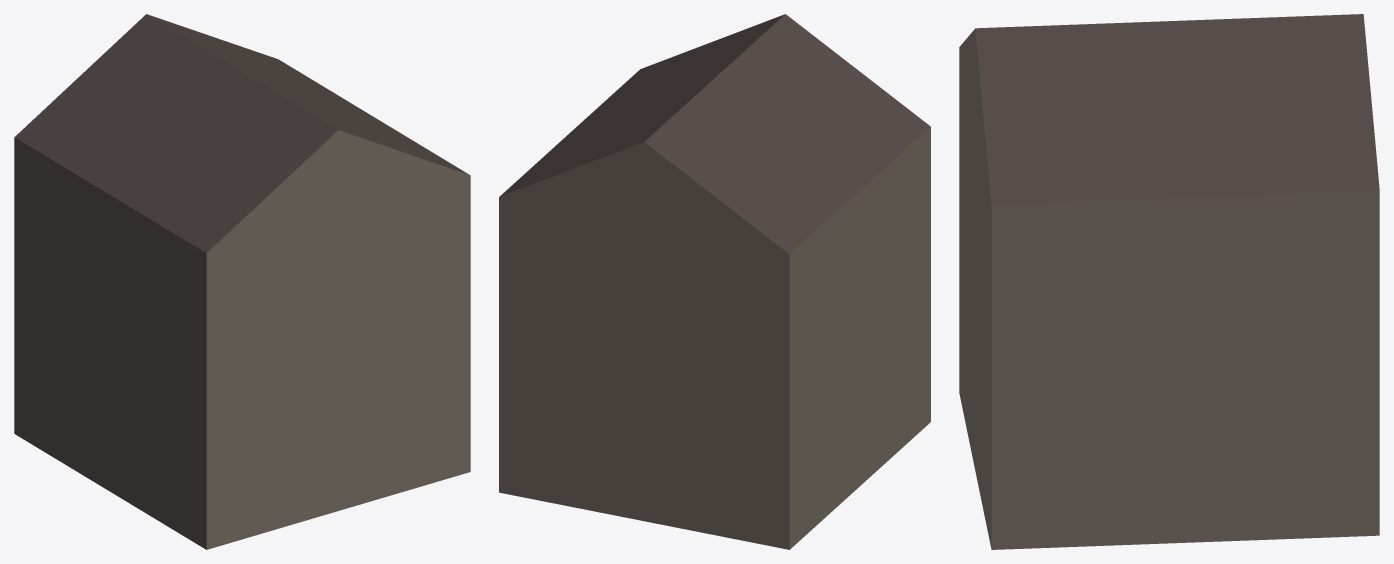
3 views of the same model, side by side, from view 1: azimuth 30°, elevation 25°; view 2: azimuth 150°, elevation 25°; view 3: azimuth 270°, elevation 25° (orthographic). The views are drawn at different scales.
Visible parts, largest first — view 1: HP-w1424106454; view 2: HP-w1424106454; view 3: HP-w1424106454.
Part boxes in pixels (<box>): HP-w1424106454: <box>14,14,470,549</box>; HP-w1424106454: <box>499,14,930,549</box>; HP-w1424106454: <box>959,14,1379,549</box>.
Bounding box in the file's own units: 6.41 × 7.7 × 6.63.
